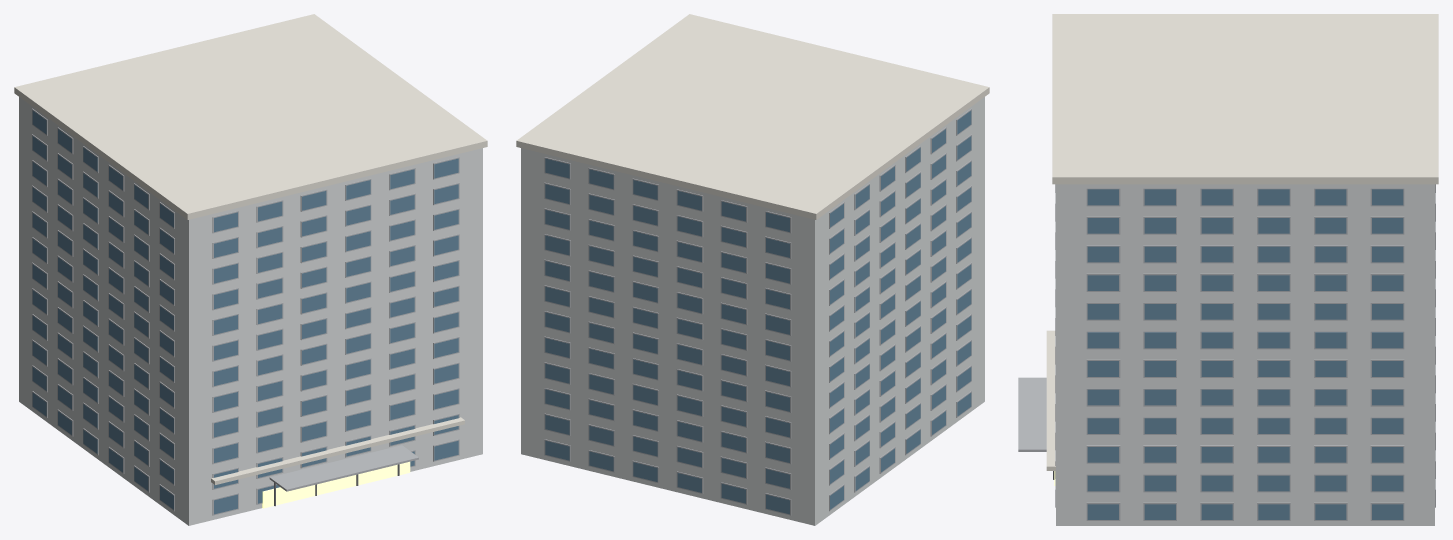
File: hotel.glb
3 renders of one model, left to right at view 1: azimuth 30°, elevation 25°; view 2: azimuth 150°, elevation 25°; view 3: azimuth 270°, elevation 25°, orthographic. The views are drawn at different scales.
Parts seen in each view (by area): view 1: Cube, Cube.577, Cube.002, Cube.001, Cube.579, Cube.580, Cube.578; view 2: Cube, Cube.577, Cube.002, Cube.001; view 3: Cube, Cube.577, Cube.002, Cube.001, Cube.579, Cube.580.
Part boxes in pixels (x1,y1,x2,y2): Cube: [19, 97, 482, 525]; Cube.577: [14, 14, 487, 219]; Cube.002: [32, 110, 458, 514]; Cube.001: [32, 108, 459, 515]; Cube.579: [269, 445, 418, 491]; Cube.580: [211, 417, 464, 484]; Cube.578: [262, 461, 410, 508]; Cube: [521, 97, 984, 525]; Cube.577: [516, 14, 989, 219]; Cube.002: [545, 110, 971, 514]; Cube.001: [544, 108, 971, 515]; Cube: [1056, 184, 1434, 525]; Cube.577: [1052, 14, 1438, 184]; Cube.002: [1087, 189, 1403, 519]; Cube.001: [1055, 184, 1435, 520]; Cube.579: [1018, 377, 1046, 451]; Cube.580: [1046, 330, 1055, 470].
Size of the model in its own units: 40.8 by 40.8 by 44.4.
